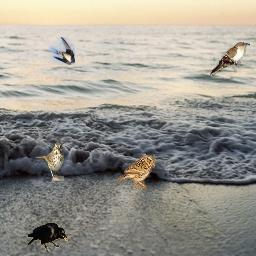Crow: (28, 222, 68, 253)
Cuckoo: (210, 42, 250, 76)
Sparrow: (118, 155, 155, 190), (35, 141, 64, 181)
Swallow: (48, 37, 75, 65)
